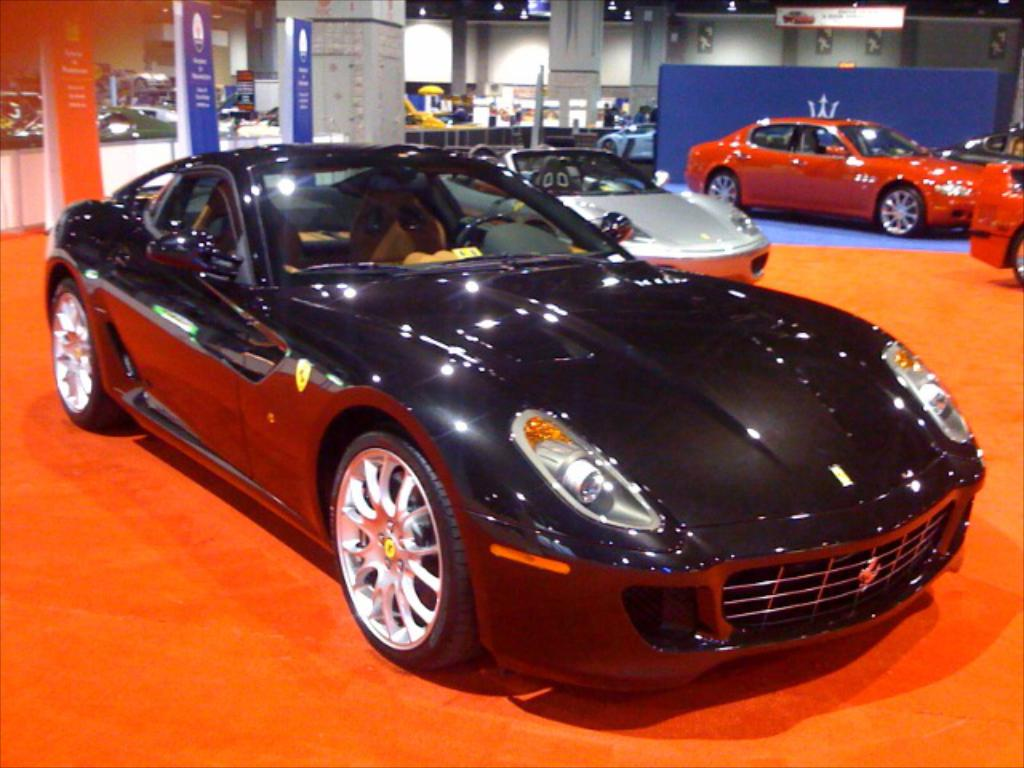Car: (49, 144, 986, 693), (439, 148, 773, 286), (688, 115, 977, 237), (974, 160, 1024, 292), (940, 126, 1024, 164), (594, 125, 654, 157)
